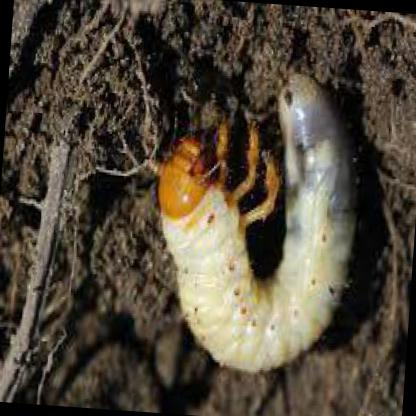root grubs: (153, 73, 357, 373)
